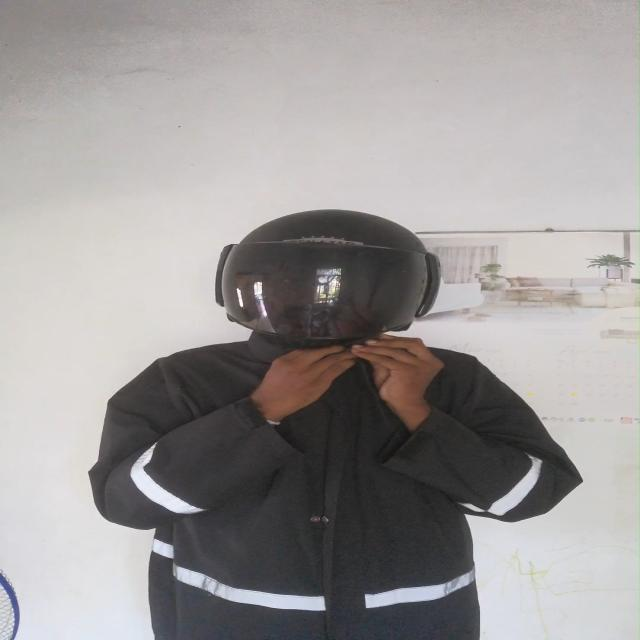Helmet_Wearer: (198, 201, 442, 352)
Jacket_Wearer: (98, 331, 585, 640)
Person: (76, 210, 591, 640)
